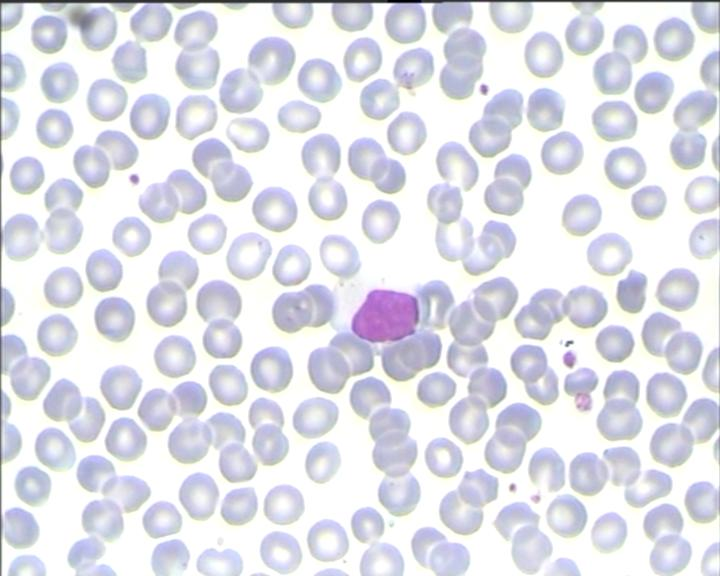lymp: (329, 270, 434, 349)
